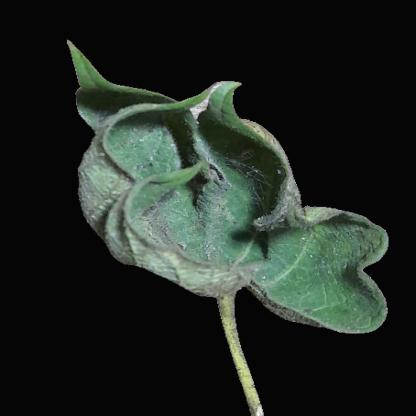curl_stage2: (103, 113, 191, 205), (275, 244, 370, 313)
sooty: (247, 183, 314, 243), (185, 187, 243, 247), (213, 141, 256, 179), (143, 216, 183, 252)
